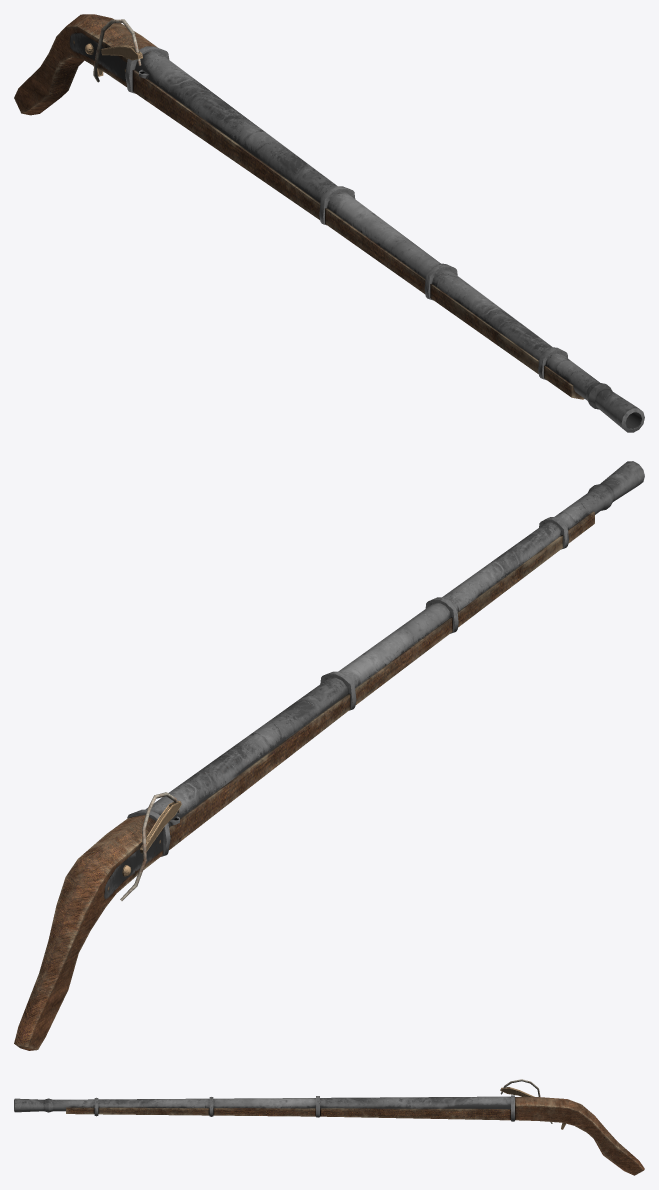
File: weapon_musket_test.fbx
The picture shows the model from 3 angles, top to bottom: view 1: azimuth 30°, elevation 25°; view 2: azimuth 150°, elevation 25°; view 3: azimuth 270°, elevation 25°; orthographic projection. The views are drawn at different scales.
Visible parts, largest first — view 1: weapon_musket; view 2: weapon_musket; view 3: weapon_musket.
Part boxes in pixels (x1=…): weapon_musket: x1=14, y1=14, x2=644, y2=432; weapon_musket: x1=14, y1=461, x2=644, y2=1050; weapon_musket: x1=14, y1=1079, x2=644, y2=1175.
Size of the model in its own units: 9.88 by 35.94 by 223.
